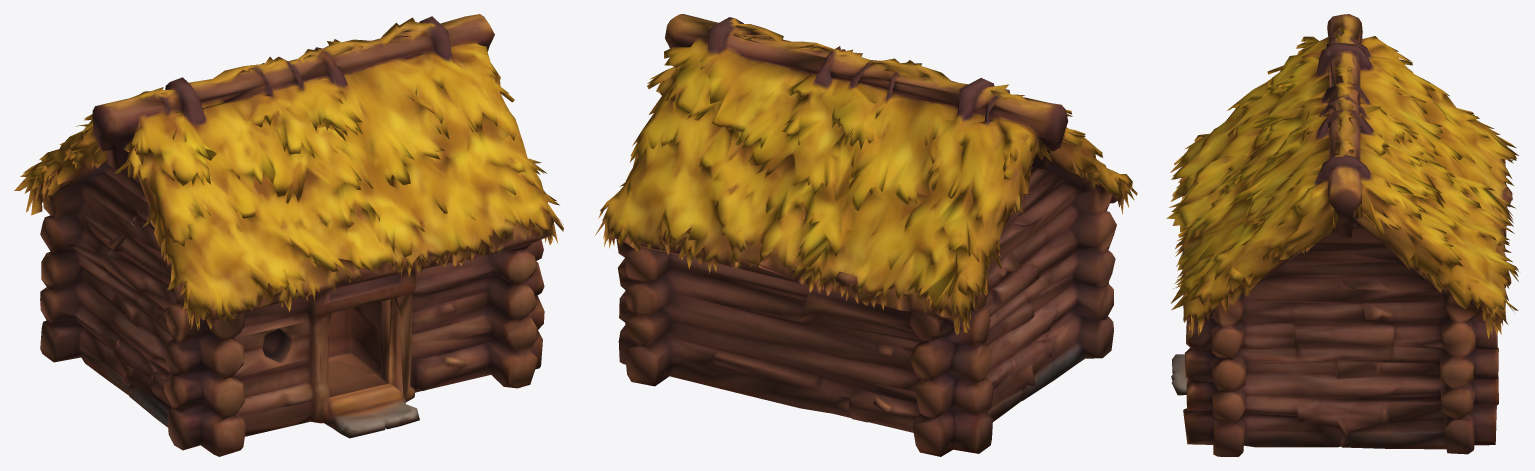
File: tripo_house_lod0.glb
The picture shows the model from 3 angles, left to right: view 1: azimuth 30°, elevation 25°; view 2: azimuth 150°, elevation 25°; view 3: azimuth 270°, elevation 25°; orthographic projection. The views are drawn at different scales.
Parts seen in each view (by area): view 1: house; view 2: house; view 3: house.
Part boxes in pixels (box(x1,y1,x2,y2)): house: box(14, 14, 563, 456); house: box(595, 14, 1137, 456); house: box(1166, 14, 1518, 456).
Size of the model in its own units: 3.99 by 3.02 by 3.38.
Materials: 1 (1 with a texture image).
